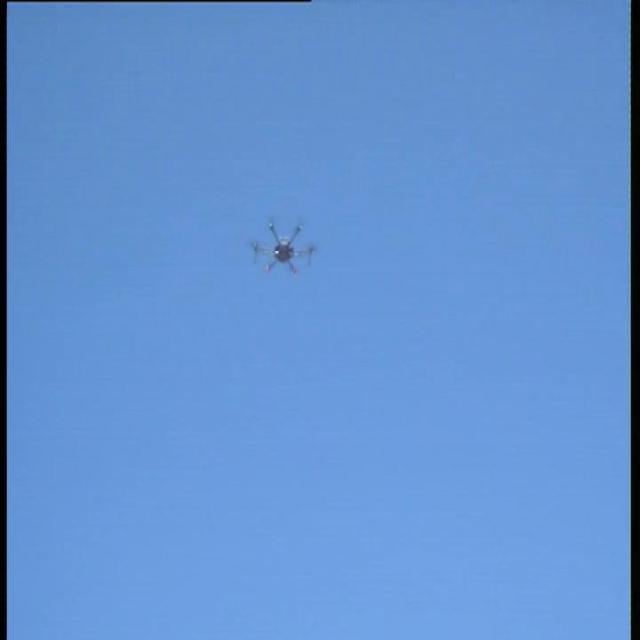drone: (248, 207, 323, 284)
